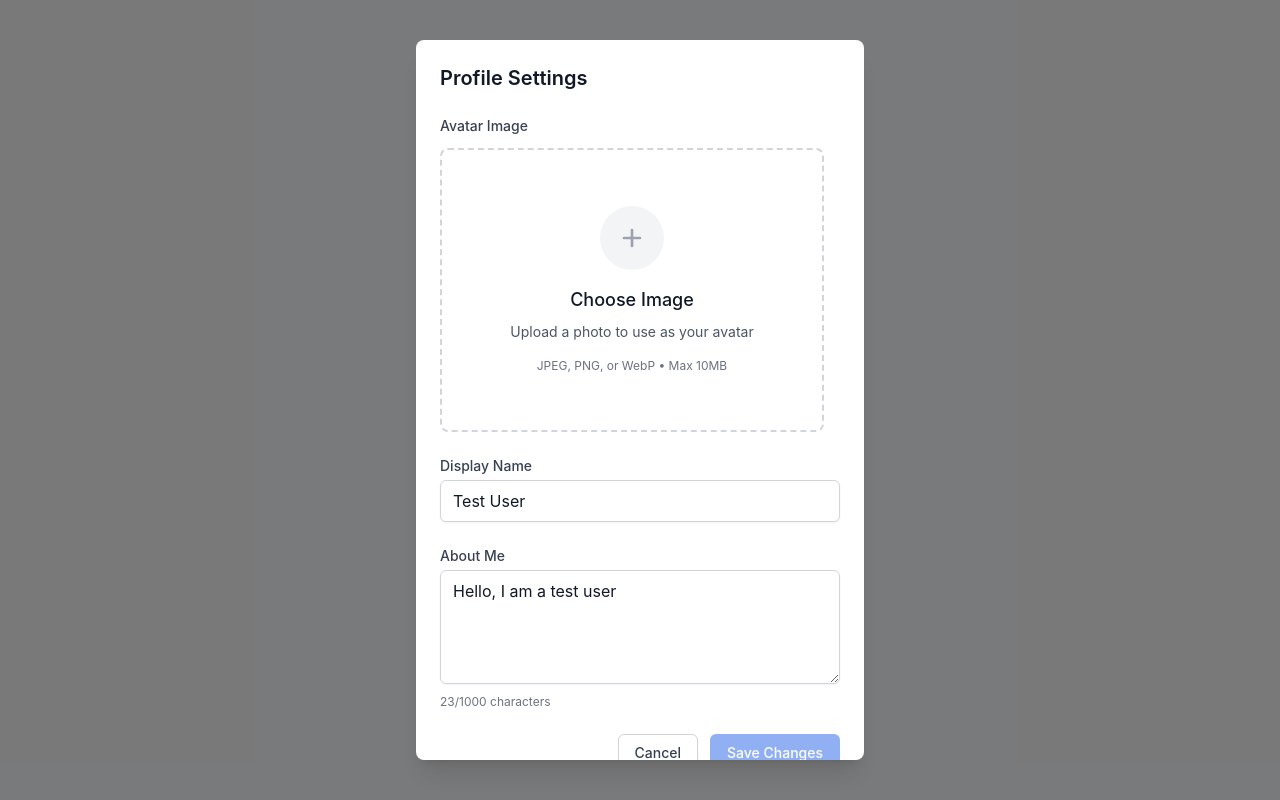
ProfileSettingsModal › Form Validation › should validate display name length for full accounts
Replace the text in the field showing "Test User" with "AB" at (640, 501), box [440,480,840,522]
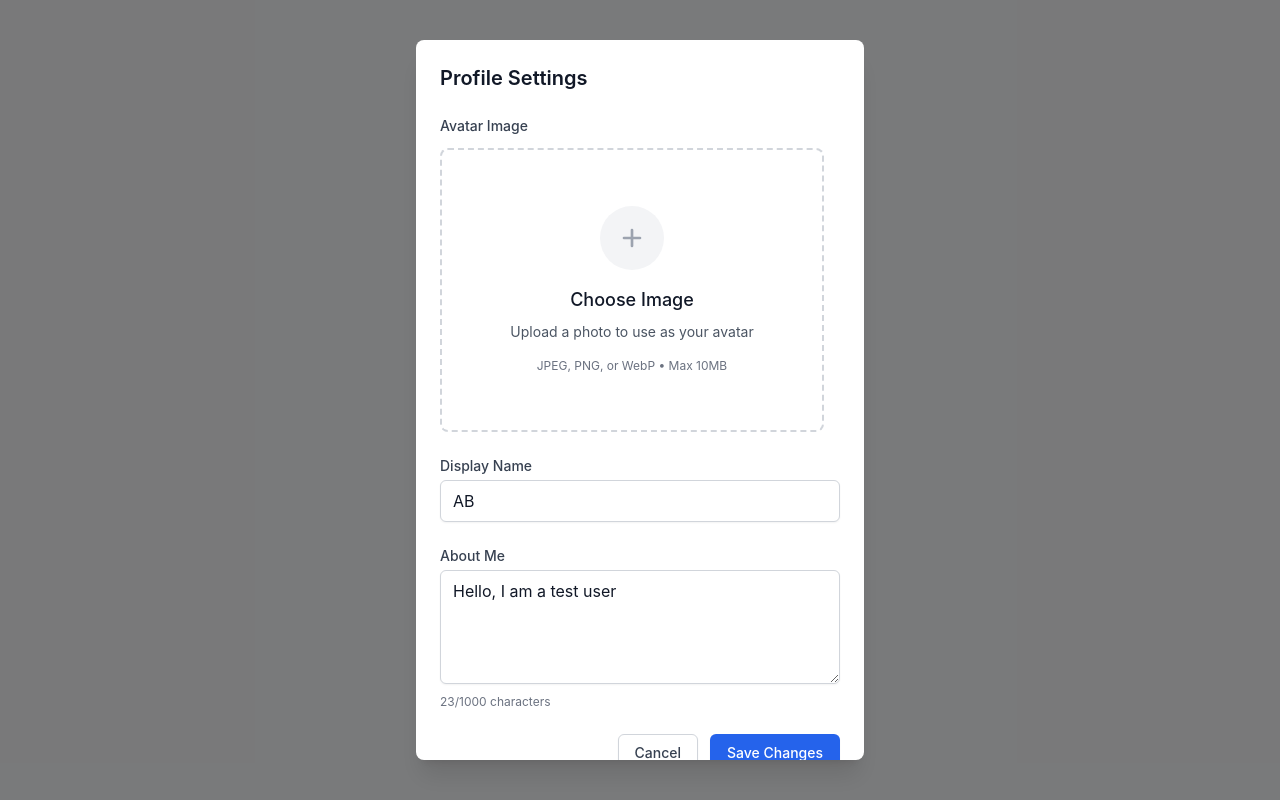
Click the button "Save Changes" at (775, 753), box [710,734,840,772]
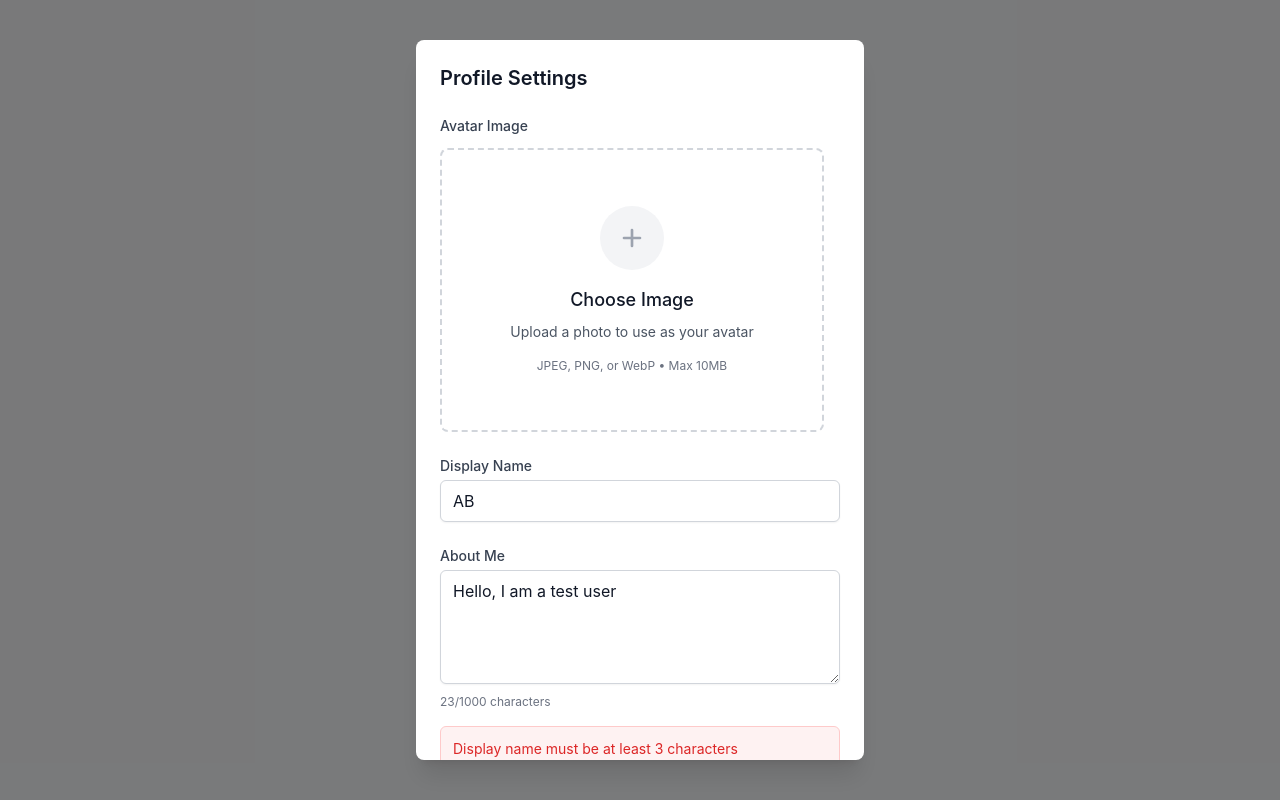
Expected: the text "Display name must be at least 3 characters" is shown, [453,740,738,757]
